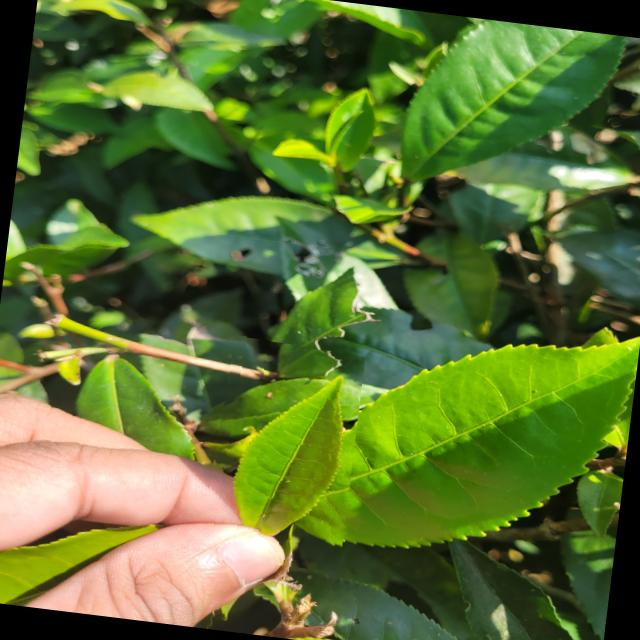Catagory A 1-2 days: (197, 332, 366, 571)
